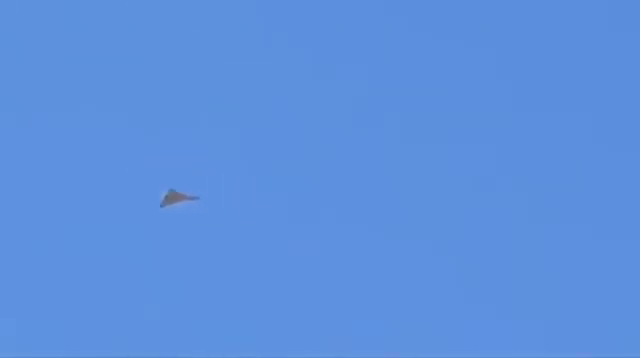shahed: (158, 186, 200, 209)
